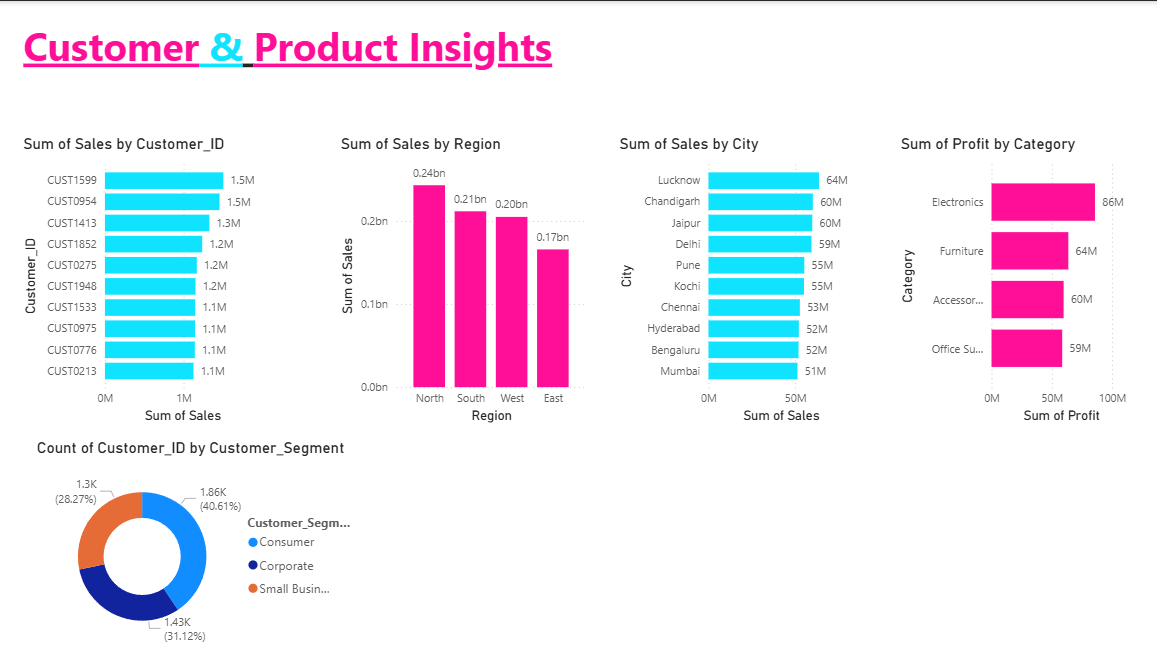

Layout of this report page (visuals, bound fields, positions):
{"tool":"powerbi","page":{"name":"Customer & Product Insights","canvas":[1280,720],"ordinal":3},"visuals":[{"type":"clusteredBarChart","fields":{"Category":["retail_cleaned.Customer_ID"],"Y":["Sum(retail_cleaned.Sales)"]},"box":[20.6,146.8,279.9,321.1],"z":0},{"type":"clusteredColumnChart","fields":{"Category":["retail_cleaned.Region"],"Y":["Sum(retail_cleaned.Sales)"]},"box":[369.1,146.8,279.9,321.1],"z":1},{"type":"donutChart","fields":{"Category":["retail_cleaned.Customer_Segment"],"Y":["Count(retail_cleaned.Customer_ID)"]},"box":[35.7,480.3,358.1,240.1],"z":2},{"type":"clusteredBarChart","fields":{"Category":["retail_cleaned.City"],"Y":["Sum(retail_cleaned.Sales)"]},"box":[675.1,146.8,279.9,321.1],"z":3},{"type":"clusteredBarChart","fields":{"Category":["retail_cleaned.Category"],"Y":["Sum(retail_cleaned.Profit)"]},"box":[983.9,146.8,279.9,321.1],"z":4},{"type":"textbox","box":[20.6,15.1,654.5,118],"z":5}]}

Visuals, with their boxes in screenshot pixels (x1, y1, x2, y2), scaled from the page's 1280x720 canvas onto the 1157x652 screenshot:
clusteredBarChart - retail_cleaned.Customer_ID x Sum(retail_cleaned.Sales): [19, 133, 272, 424]
clusteredColumnChart - retail_cleaned.Region x Sum(retail_cleaned.Sales): [334, 133, 587, 424]
donutChart - retail_cleaned.Customer_Segment x Count(retail_cleaned.Customer_ID): [32, 435, 356, 651]
clusteredBarChart - retail_cleaned.City x Sum(retail_cleaned.Sales): [610, 133, 863, 424]
clusteredBarChart - retail_cleaned.Category x Sum(retail_cleaned.Profit): [889, 133, 1142, 424]
textbox: [19, 14, 610, 121]
